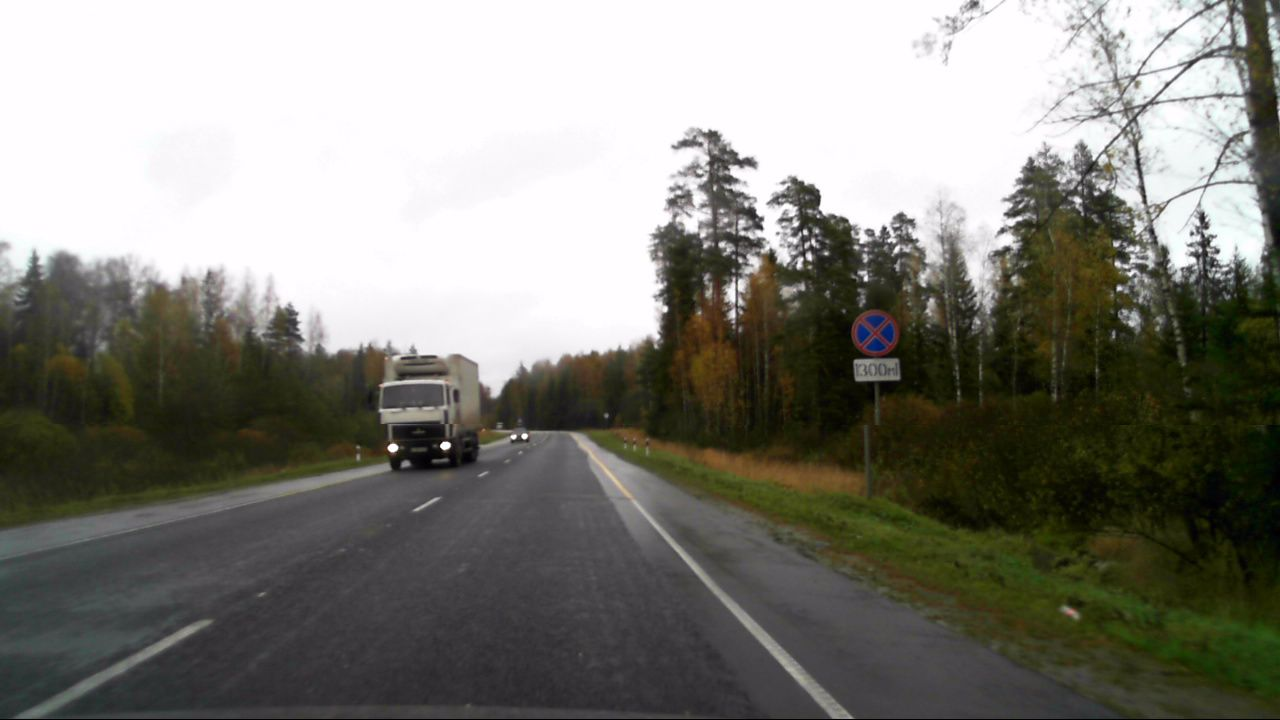No Parking: (848, 309, 903, 356)
